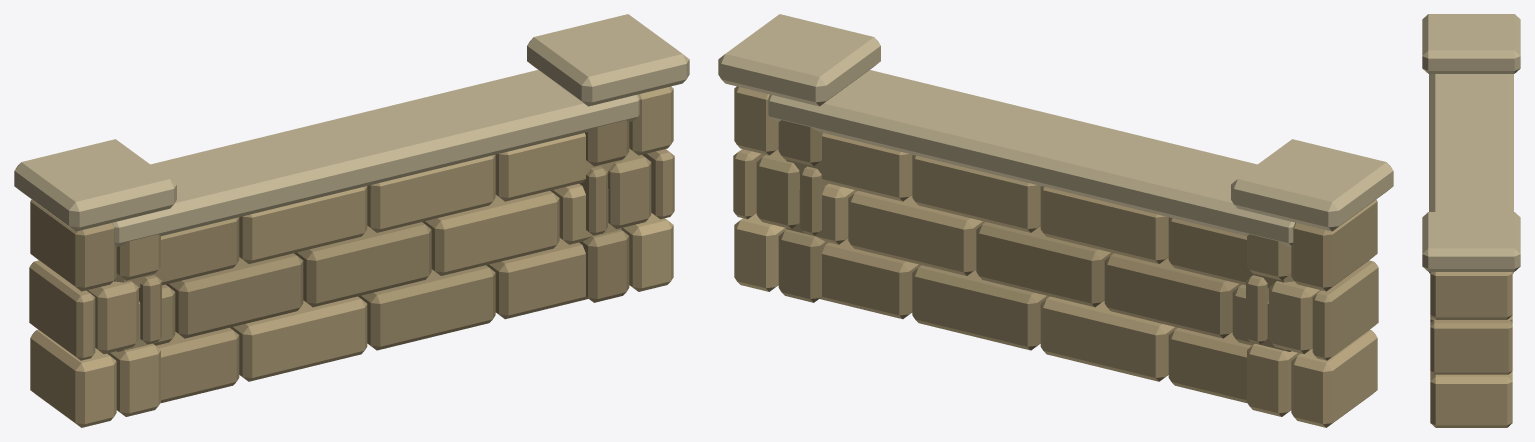
File: wall.glb
The picture shows the model from 3 angles, left to right: view 1: azimuth 30°, elevation 25°; view 2: azimuth 150°, elevation 25°; view 3: azimuth 270°, elevation 25°; orthographic projection. The views are drawn at different scales.
Visible parts, largest first — view 1: Stone; view 2: Stone; view 3: Stone.
Boxes of the visible parts, x1,y1,x2,y2 form: Stone: [14, 14, 689, 427]; Stone: [718, 14, 1393, 427]; Stone: [1422, 14, 1520, 427].
Bounding box in the file's own units: 4.6 × 1.64 × 0.8.
